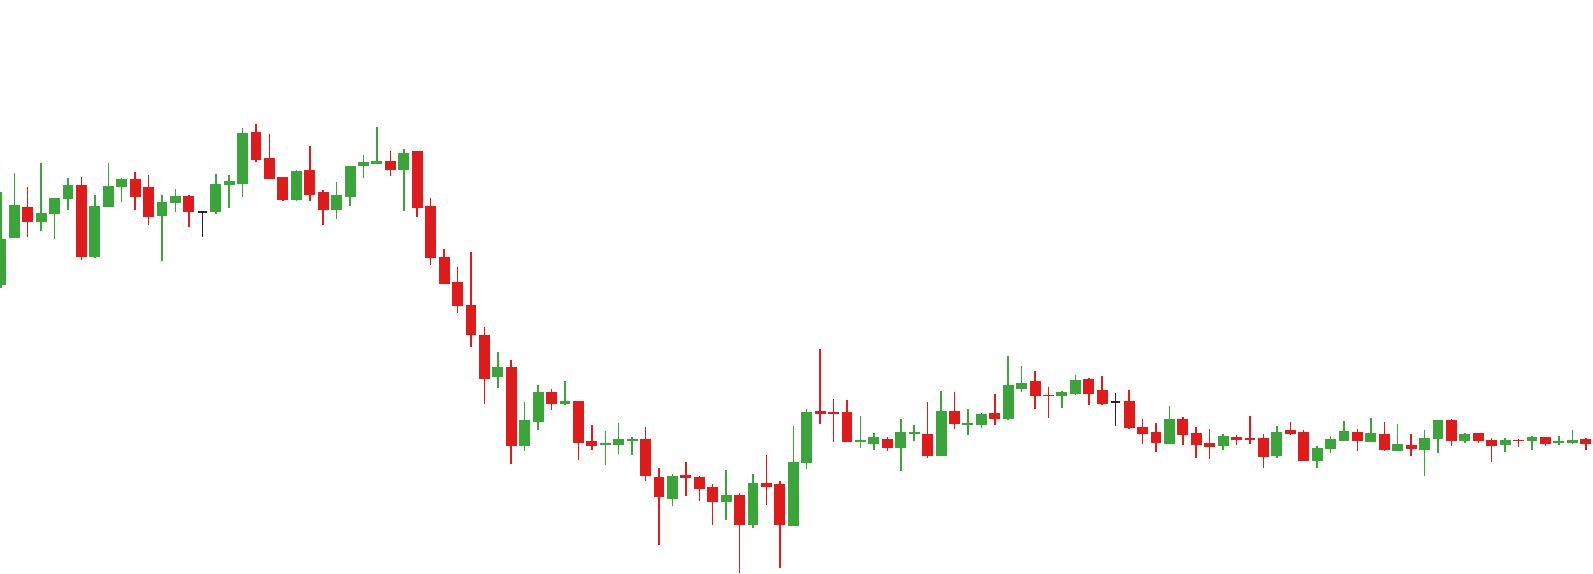sell: (304, 114, 397, 202)
